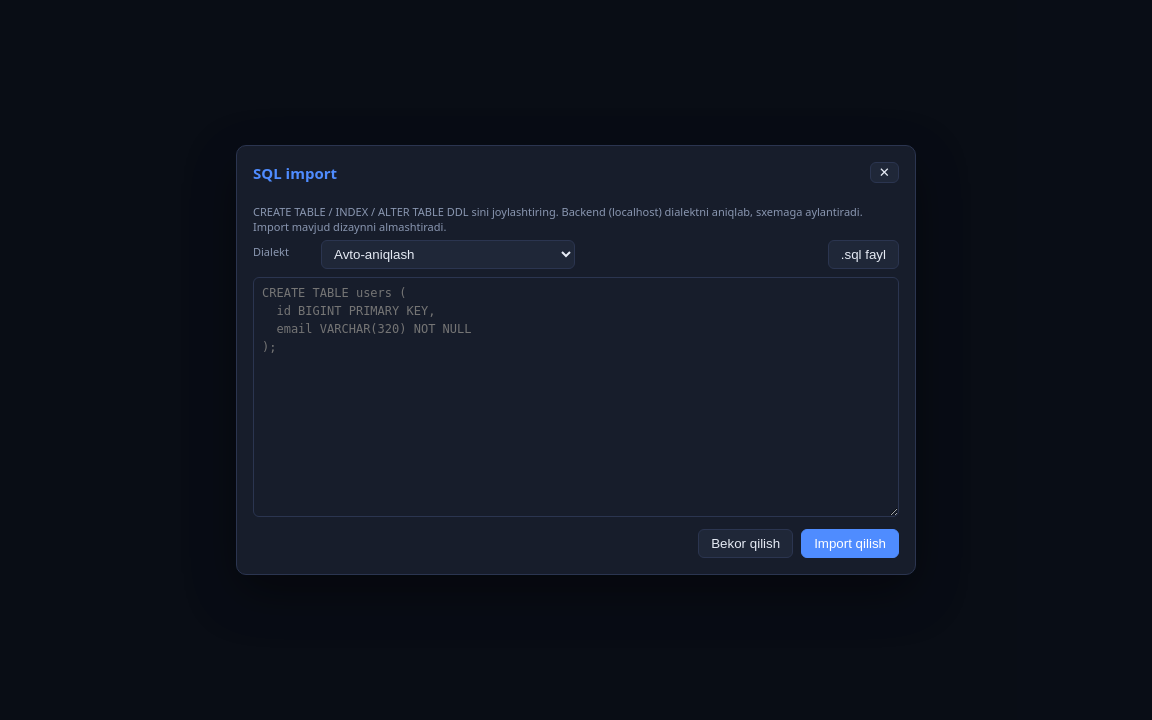
Test: ImportSqlDialog › shows an error and does not call the backend when SQL is empty
Click the button "Import qilish" at (850, 544), box [801,529,899,558]
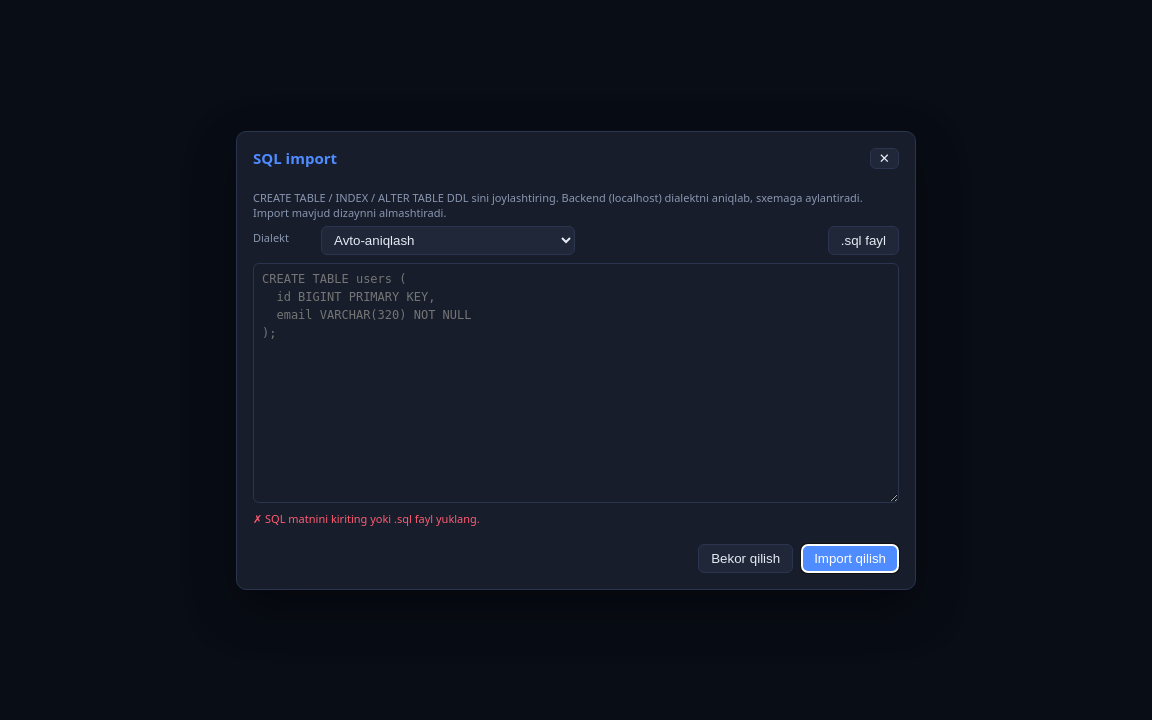
Now the text "✗ SQL matnini kiriting yoki .sql fayl yuklang." is shown, box [253,510,480,526]
